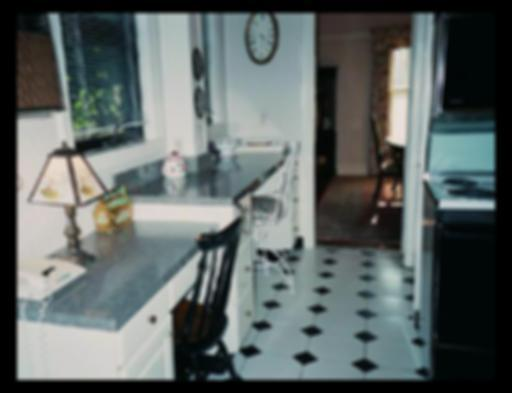Electrodomestico: (422, 123, 495, 373)
